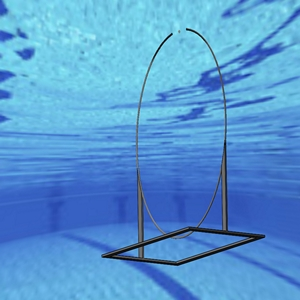circle: (102, 25, 265, 265)
